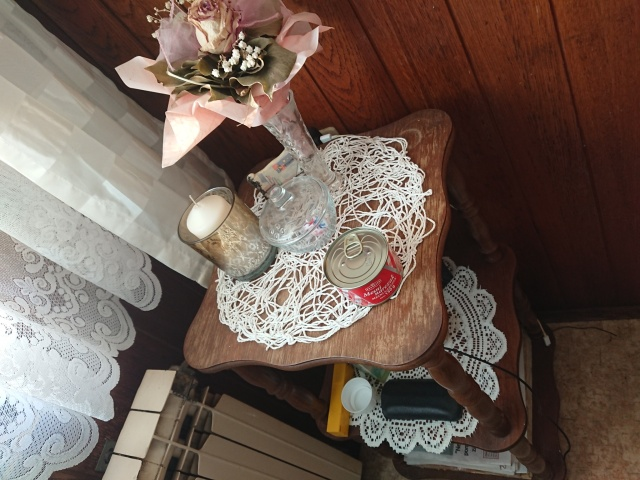Podravka Luncheon Meat 150g: (320, 223, 406, 309)
